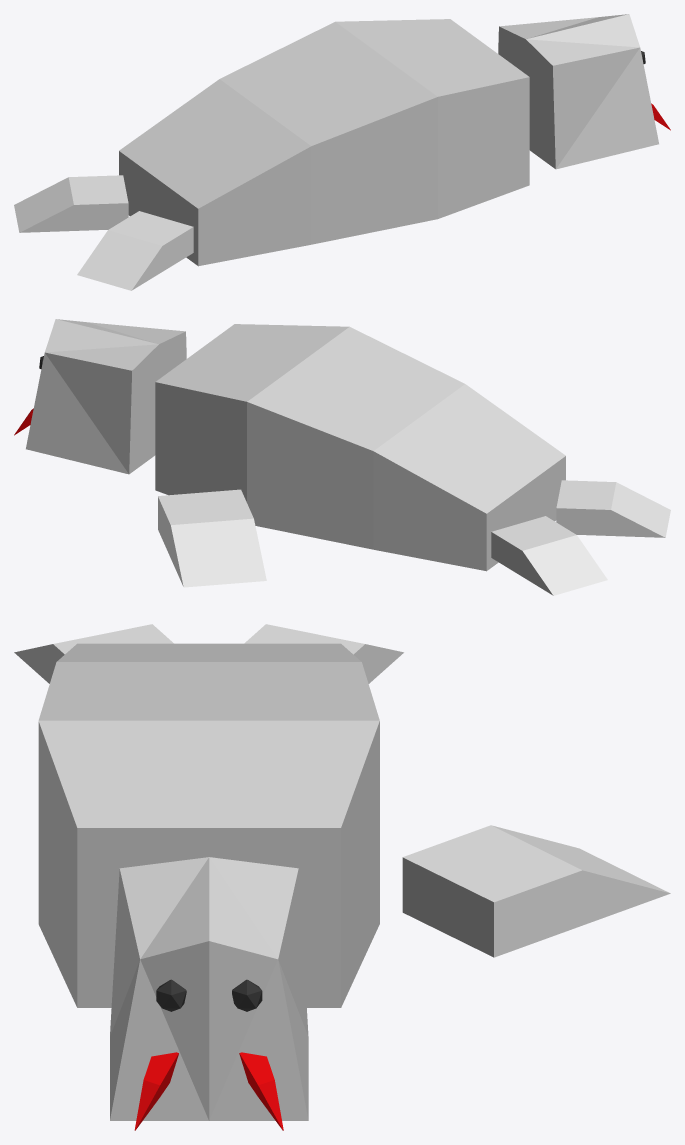
File: Walrus.fbx
The picture shows the model from 3 angles, top to bottom: view 1: azimuth 30°, elevation 25°; view 2: azimuth 150°, elevation 25°; view 3: azimuth 270°, elevation 25°; orthographic projection. The views are drawn at different scales.
Parts seen in each view (by area): view 1: Cube, Cube.003, Cube.001; view 2: Cube, Cube.003, Cube.001, Cube.002; view 3: Cube, Cube.003, Cube.002, Cube.001.
Part boxes in pixels (left/top/right/bottom): Cube: left=119, top=19, right=529, bottom=266; Cube.003: left=498, top=14, right=670, bottom=169; Cube.001: left=14, top=175, right=193, bottom=290; Cube: left=155, top=324, right=565, bottom=571; Cube.003: left=14, top=319, right=186, bottom=474; Cube.001: left=491, top=480, right=670, bottom=595; Cube.002: left=158, top=489, right=266, bottom=587; Cube: left=38, top=643, right=379, bottom=1007; Cube.003: left=110, top=857, right=308, bottom=1130; Cube.002: left=402, top=825, right=670, bottom=957; Cube.001: left=14, top=624, right=403, bottom=683.
Size of the model in its own units: 1161 by 226 by 661.
